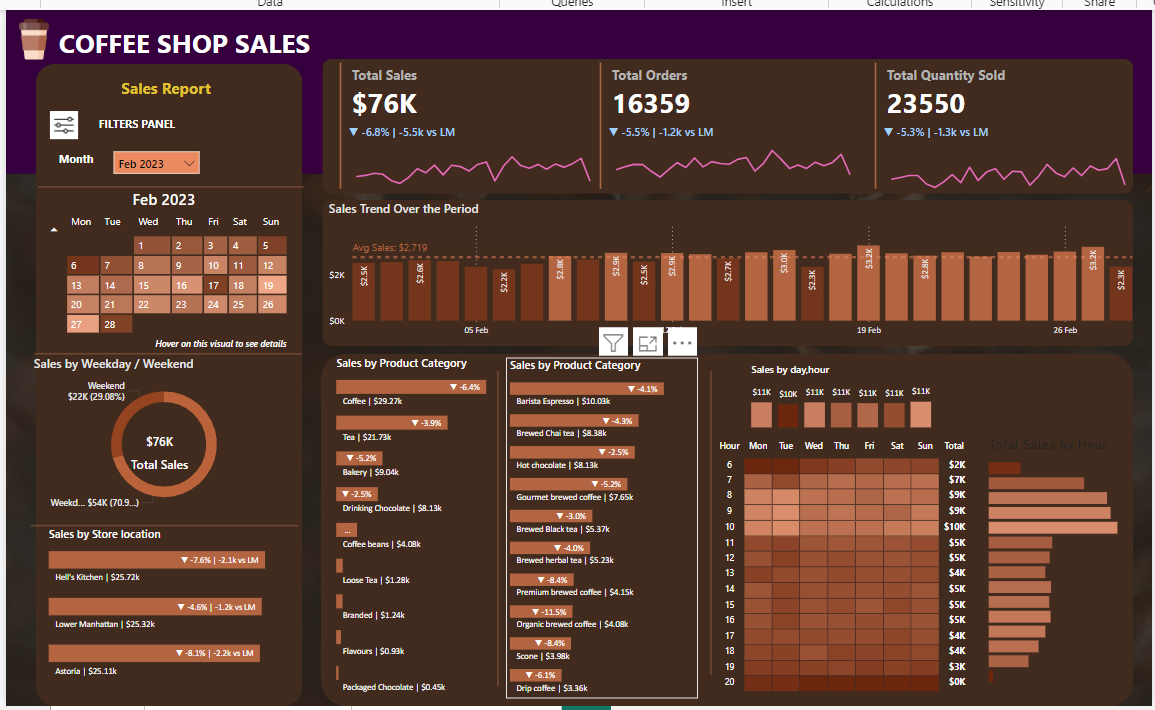

The page's visual inventory and layout, read from the dashboard file:
{"tool":"powerbi","page":{"name":"Page 1","canvas":[1400,850],"ordinal":0},"visuals":[{"type":"shape","box":[384.7,419.8,992.3,430.5],"z":0},{"type":"shape","box":[0,0,1399.9,200],"z":1000},{"type":"shape","box":[36.6,65.6,325.2,784.7],"z":2000},{"type":"shape","box":[386.2,59.5,990.8,164.9],"z":3000},{"type":"textbox","box":[59.5,13.7,338.9,64.1],"z":4000},{"type":"cardVisual","fields":{"Data":["Transactions.Total Sales"]},"box":[392.3,59.5,322.1,164.9],"z":4000,"group":"g1"},{"type":"cardVisual","fields":{"Data":["Transactions.Total Orders"]},"box":[709.9,59.5,322.1,164.9],"z":4000,"group":"g2"},{"type":"cardVisual","fields":{"Data":["Transactions.Total Quantity Sold"]},"box":[1045.7,59.5,322.1,164.9],"z":4000,"group":"g3"},{"type":"slicer","fields":{"Values":["Date Table.Month Year"]},"box":[126.7,167.9,114.5,44.3],"z":5000},{"type":"group","id":"g1","title":"Group 1","box":[392.3,59.5,335.8,164.9],"z":6000},{"type":"lineChart","fields":{"Category":["Date Table.Date.Variation.Date Hierarchy.Year","Date Table.Date.Variation.Date Hierarchy.Quarter","Date Table.Date.Variation.Date Hierarchy.Month","Date Table.Date.Variation.Date Hierarchy.Day"],"Y":["Transactions.Total Sales"]},"box":[414,139.1,314.5,85.5],"z":6000,"group":"g1"},{"type":"lineChart","fields":{"Category":["Date Table.Date.Variation.Date Hierarchy.Year","Date Table.Date.Variation.Date Hierarchy.Quarter","Date Table.Date.Variation.Date Hierarchy.Month","Date Table.Date.Variation.Date Hierarchy.Day"],"Y":["Transactions.Total Orders"]},"box":[731.6,139.1,314.5,85.5],"z":6000,"group":"g2"},{"type":"lineChart","fields":{"Category":["Date Table.Date.Variation.Date Hierarchy.Year","Date Table.Date.Variation.Date Hierarchy.Quarter","Date Table.Date.Variation.Date Hierarchy.Month","Date Table.Date.Variation.Date Hierarchy.Day"],"Y":["Transactions.Total Quantity Sold"]},"box":[1067.4,139.1,314.5,85.5],"z":6000,"group":"g3"},{"type":"group","id":"g2","title":"Group 1","box":[709.9,59.5,335.8,164.9],"z":7000},{"type":"group","id":"g3","title":"Group 1","box":[1045.7,59.5,335.8,164.9],"z":8000},{"type":"pivotTable","fields":{"Rows":["Date Table.Week Number"],"Columns":["Date Table.Day Name"],"Values":["Min(Date Table.Day number)"]},"box":[44.3,241.2,305.3,189.3],"z":9000},{"type":"card","fields":{"Values":["Min(Date Table.Month Year)"]},"box":[135.9,212.2,114.5,41.2],"z":10000},{"type":"card","fields":{"Values":["Transactions.Foot Note"]},"box":[160.3,380.1,204.6,61.1],"z":11000},{"type":"shape","box":[35.1,403,326.7,33.6],"z":12000},{"type":"shape","box":[39.7,200,325.2,32.1],"z":13000},{"type":"donutChart","title":" Sales by Weekday / Weekend","fields":{"Category":["Date Table.Weekday / Weekend"],"Y":["Transactions.Total Sales"]},"box":[29,421.3,328.2,198.5],"z":14000},{"type":"card","fields":{"Values":["Transactions.Total Sales"]},"box":[126.7,506.8,122.1,64.1],"z":15000},{"type":"shape","box":[30.5,613.7,326.7,32.1],"z":16000},{"type":"clusteredBarChart","title":"Sales by Store location","fields":{"Y":["Transactions.Total Sales","Transactions.Placeholder"],"Category":["Transactions.store_location"]},"box":[47.3,630.5,305.3,195.4],"z":17000},{"type":"shape","box":[386.2,232,990.8,178.6],"z":18000},{"type":"columnChart","title":"Sales Trend Over the Period","fields":{"Category":["Transactions.transaction_date"],"Y":["Transactions.Total Sales"]},"box":[389.3,232,992.3,175.6],"z":19000},{"type":"clusteredBarChart","title":"Sales by Product Category","fields":{"Y":["Transactions.Total Sales","Transactions.Placeholder"],"Category":["Transactions.product_category"]},"box":[398.4,421.3,219.8,419.8],"z":20000},{"type":"shape","box":[583.2,441.2,35.1,384.7],"z":21000},{"type":"clusteredBarChart","title":"Sales by Product Category","fields":{"Y":["Transactions.Total Sales","Transactions.Placeholder"],"Category":["Transactions.product_type"]},"box":[610.6,424.4,235.1,416.8],"z":22000},{"type":"shape","box":[850.3,441.2,21.4,371],"z":23000},{"type":"pivotTable","fields":{"Rows":["Transactions.Hour"],"Columns":["Date Table.Day Name"],"Values":["Transactions.Total Sales"]},"box":[861,520.6,334.3,329.7],"z":24000},{"type":"barChart","fields":{"Category":["Transactions.Hour"],"Y":["Transactions.Total Sales"]},"box":[1195.3,520.6,172.5,305.3],"z":25000},{"type":"columnChart","title":"Sales by day,hour","fields":{"Y":["Transactions.Total Sales"],"Category":["Date Table.Day Name"]},"box":[905.3,430.5,230.5,85.5],"z":26000},{"type":"textbox","box":[59.5,167.9,67.2,33.6],"z":26001},{"type":"textbox","box":[108.4,125.2,132.8,33.6],"z":26002},{"type":"textbox","box":[135.9,77.9,154.2,35.1],"z":26003},{"type":"image","box":[48.9,113,44.3,55],"z":26004},{"type":"image","box":[4.6,6.1,59.5,59.5],"z":26005}]}

Visuals, with their boxes on the page's 1400x850 design canvas (x1, y1, x2, y2). These are canvas units, not pixel positions in the 1155x710 screenshot, which may show the page scaled, cropped or inside an application window:
shape: box(385, 420, 1377, 850)
shape: box(0, 0, 1400, 200)
shape: box(37, 66, 362, 850)
shape: box(386, 60, 1377, 224)
textbox: box(60, 14, 398, 78)
cardVisual - Transactions.Total Sales: box(392, 60, 714, 224)
cardVisual - Transactions.Total Orders: box(710, 60, 1032, 224)
cardVisual - Transactions.Total Quantity Sold: box(1046, 60, 1368, 224)
slicer - Date Table.Month Year: box(127, 168, 241, 212)
"Group 1" group: box(392, 60, 728, 224)
lineChart - Date Table.Date.Variation.Date Hierarchy.Year x Date Table.Date.Variation.Date Hierarchy.Quarter: box(414, 139, 728, 225)
lineChart - Date Table.Date.Variation.Date Hierarchy.Year x Date Table.Date.Variation.Date Hierarchy.Quarter: box(732, 139, 1046, 225)
lineChart - Date Table.Date.Variation.Date Hierarchy.Year x Date Table.Date.Variation.Date Hierarchy.Quarter: box(1067, 139, 1382, 225)
"Group 1" group: box(710, 60, 1046, 224)
"Group 1" group: box(1046, 60, 1382, 224)
pivotTable - Date Table.Week Number x Date Table.Day Name: box(44, 241, 350, 430)
card - Min(Date Table.Month Year): box(136, 212, 250, 253)
card - Transactions.Foot Note: box(160, 380, 365, 441)
shape: box(35, 403, 362, 437)
shape: box(40, 200, 365, 232)
" Sales by Weekday / Weekend" donutChart: box(29, 421, 357, 620)
card - Transactions.Total Sales: box(127, 507, 249, 571)
shape: box(30, 614, 357, 646)
"Sales by Store location" clusteredBarChart: box(47, 630, 353, 826)
shape: box(386, 232, 1377, 411)
"Sales Trend Over the Period" columnChart: box(389, 232, 1382, 408)
"Sales by Product Category" clusteredBarChart: box(398, 421, 618, 841)
shape: box(583, 441, 618, 826)
"Sales by Product Category" clusteredBarChart: box(611, 424, 846, 841)
shape: box(850, 441, 872, 812)
pivotTable - Transactions.Hour x Date Table.Day Name: box(861, 521, 1195, 850)
barChart - Transactions.Hour x Transactions.Total Sales: box(1195, 521, 1368, 826)
"Sales by day,hour" columnChart: box(905, 430, 1136, 516)
textbox: box(60, 168, 127, 202)
textbox: box(108, 125, 241, 159)
textbox: box(136, 78, 290, 113)
image: box(49, 113, 93, 168)
image: box(5, 6, 64, 66)
